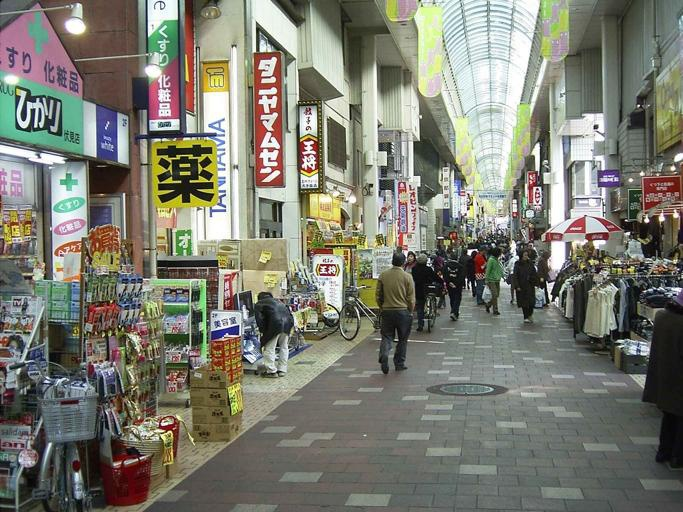non-vehicle: (8, 357, 118, 510), (338, 284, 412, 344), (422, 281, 443, 333)
